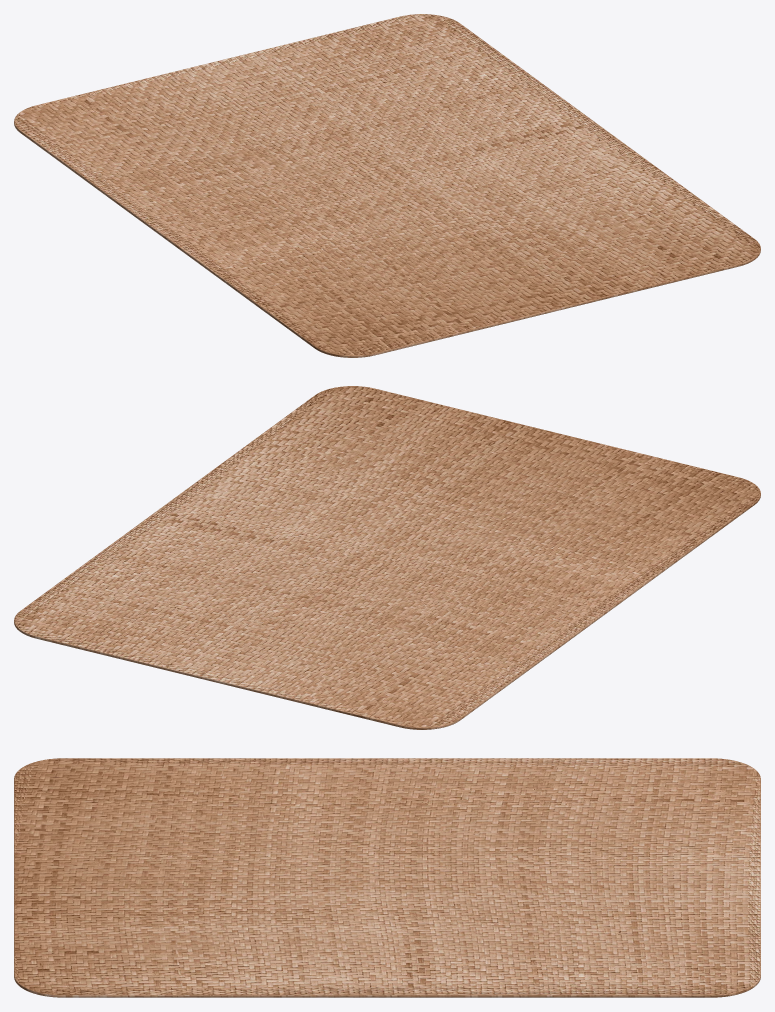
File: petate.glb
The picture shows the model from 3 angles, top to bottom: view 1: azimuth 30°, elevation 25°; view 2: azimuth 150°, elevation 25°; view 3: azimuth 270°, elevation 25°; orthographic projection. The views are drawn at different scales.
Parts seen in each view (by area): view 1: Object_2; view 2: Object_2; view 3: Object_2.
Part boxes in pixels (x1,y1,x2,y2): Object_2: (14,14,760,357); Object_2: (14,386,760,729); Object_2: (14,758,760,997).
Bounding box in the file's own units: 1.2 × 0.00663 × 1.6.
Materials: 1 (1 with a texture image).
